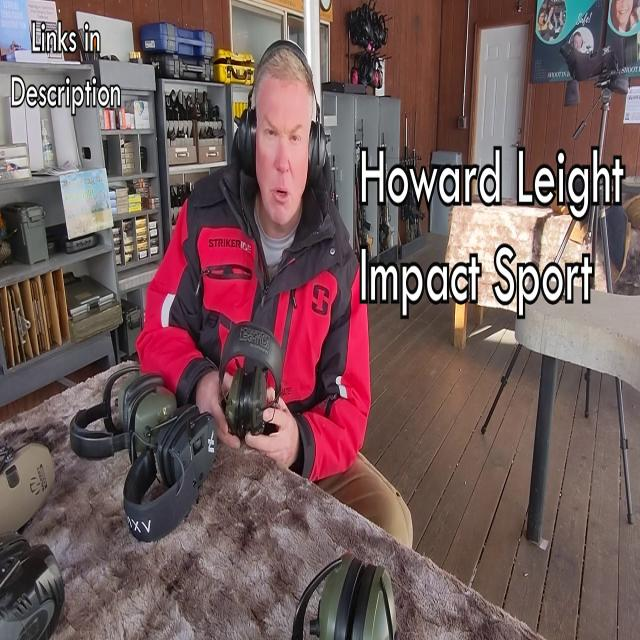earmuff: (304, 116, 333, 190), (233, 101, 261, 177)
